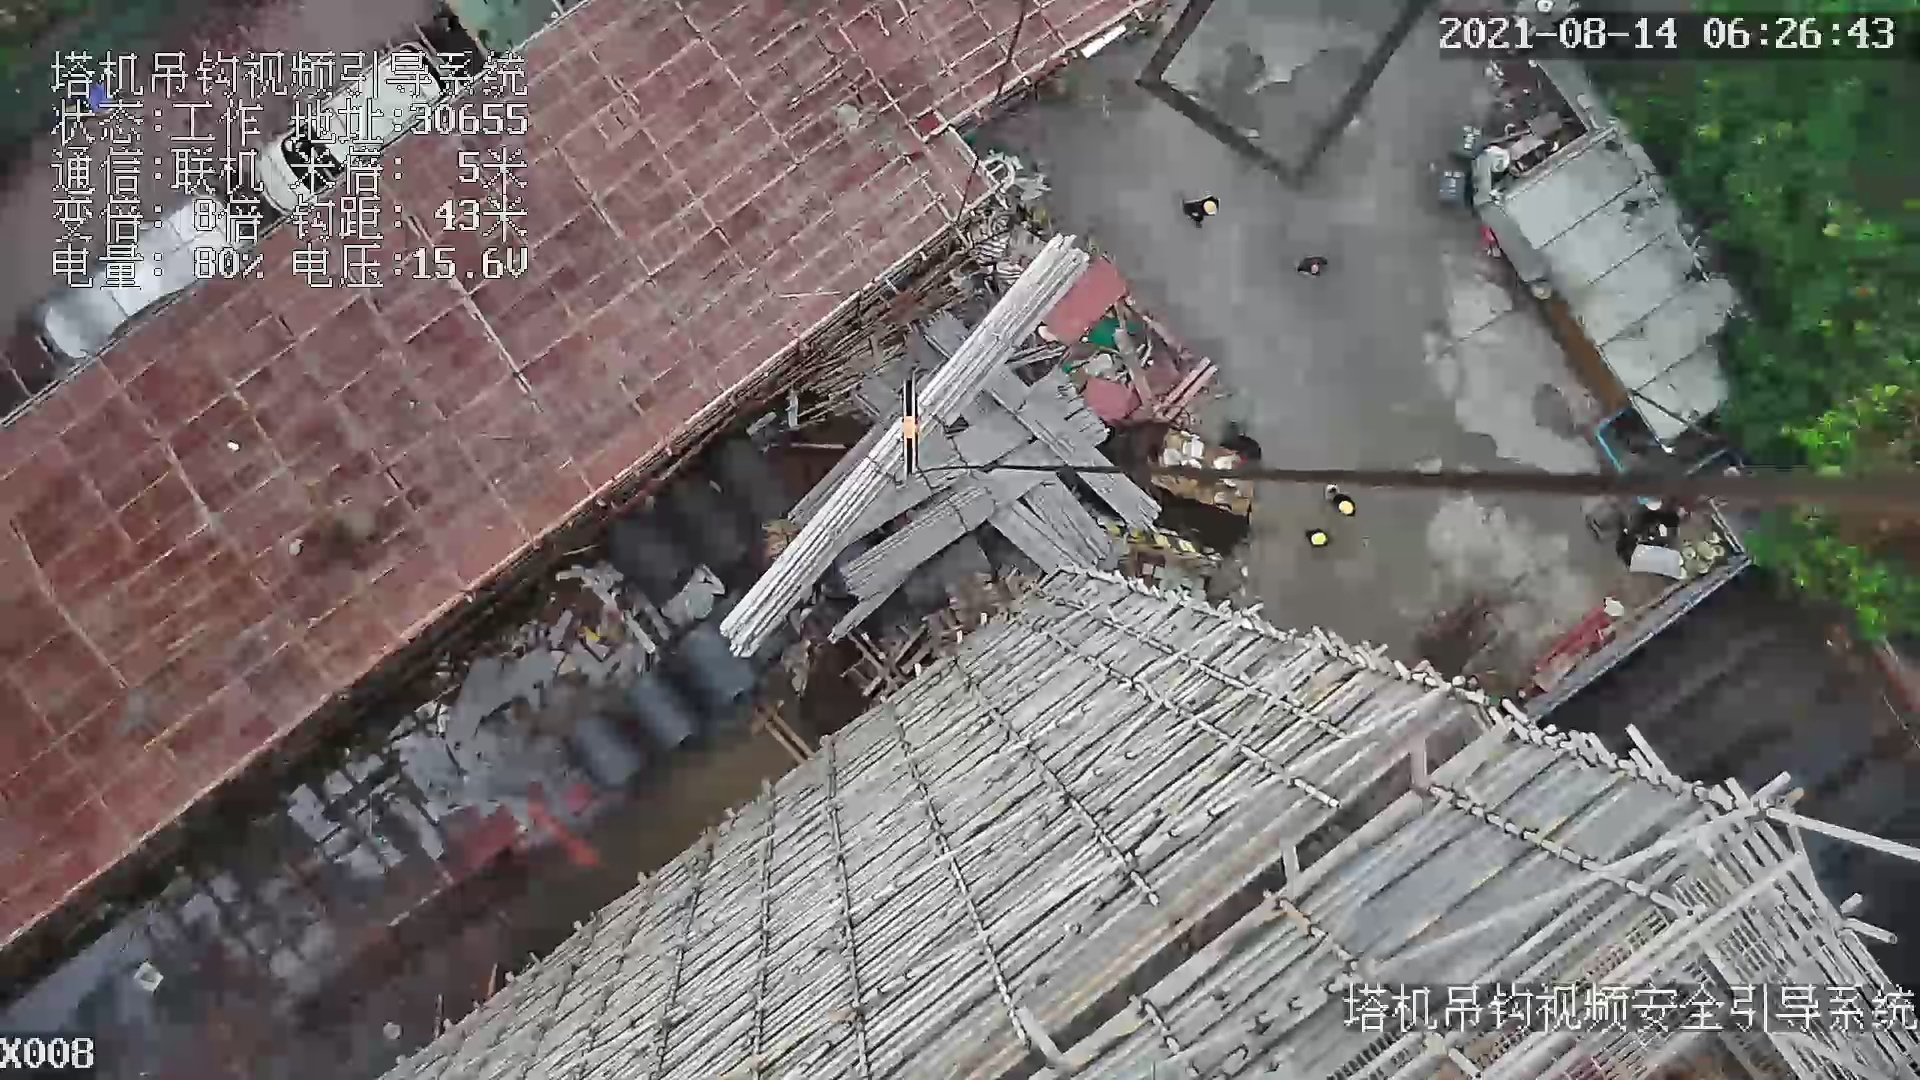helmet: (1201, 200, 1217, 217), (1338, 498, 1354, 515), (1311, 531, 1324, 547), (1310, 264, 1319, 274)
hook: (888, 369, 924, 481)
person: (1188, 186, 1223, 228), (1328, 481, 1368, 517), (1299, 245, 1329, 286), (1288, 526, 1331, 546)
